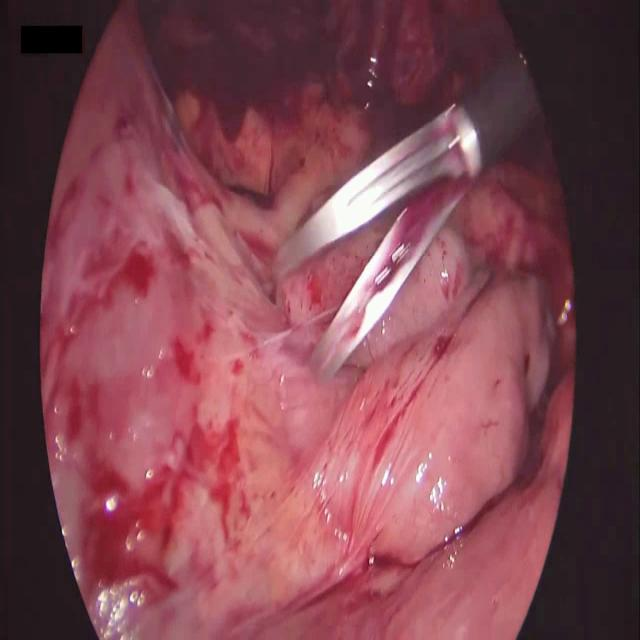surgical-area: (38, 6, 578, 639)
surgical-tool: (272, 45, 541, 386)
